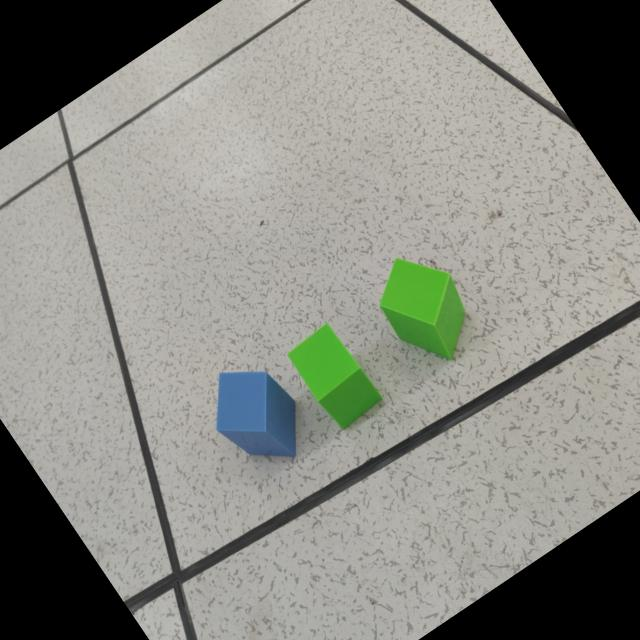blue: (216, 372, 298, 461)
green: (288, 324, 383, 429), (380, 258, 467, 361)
